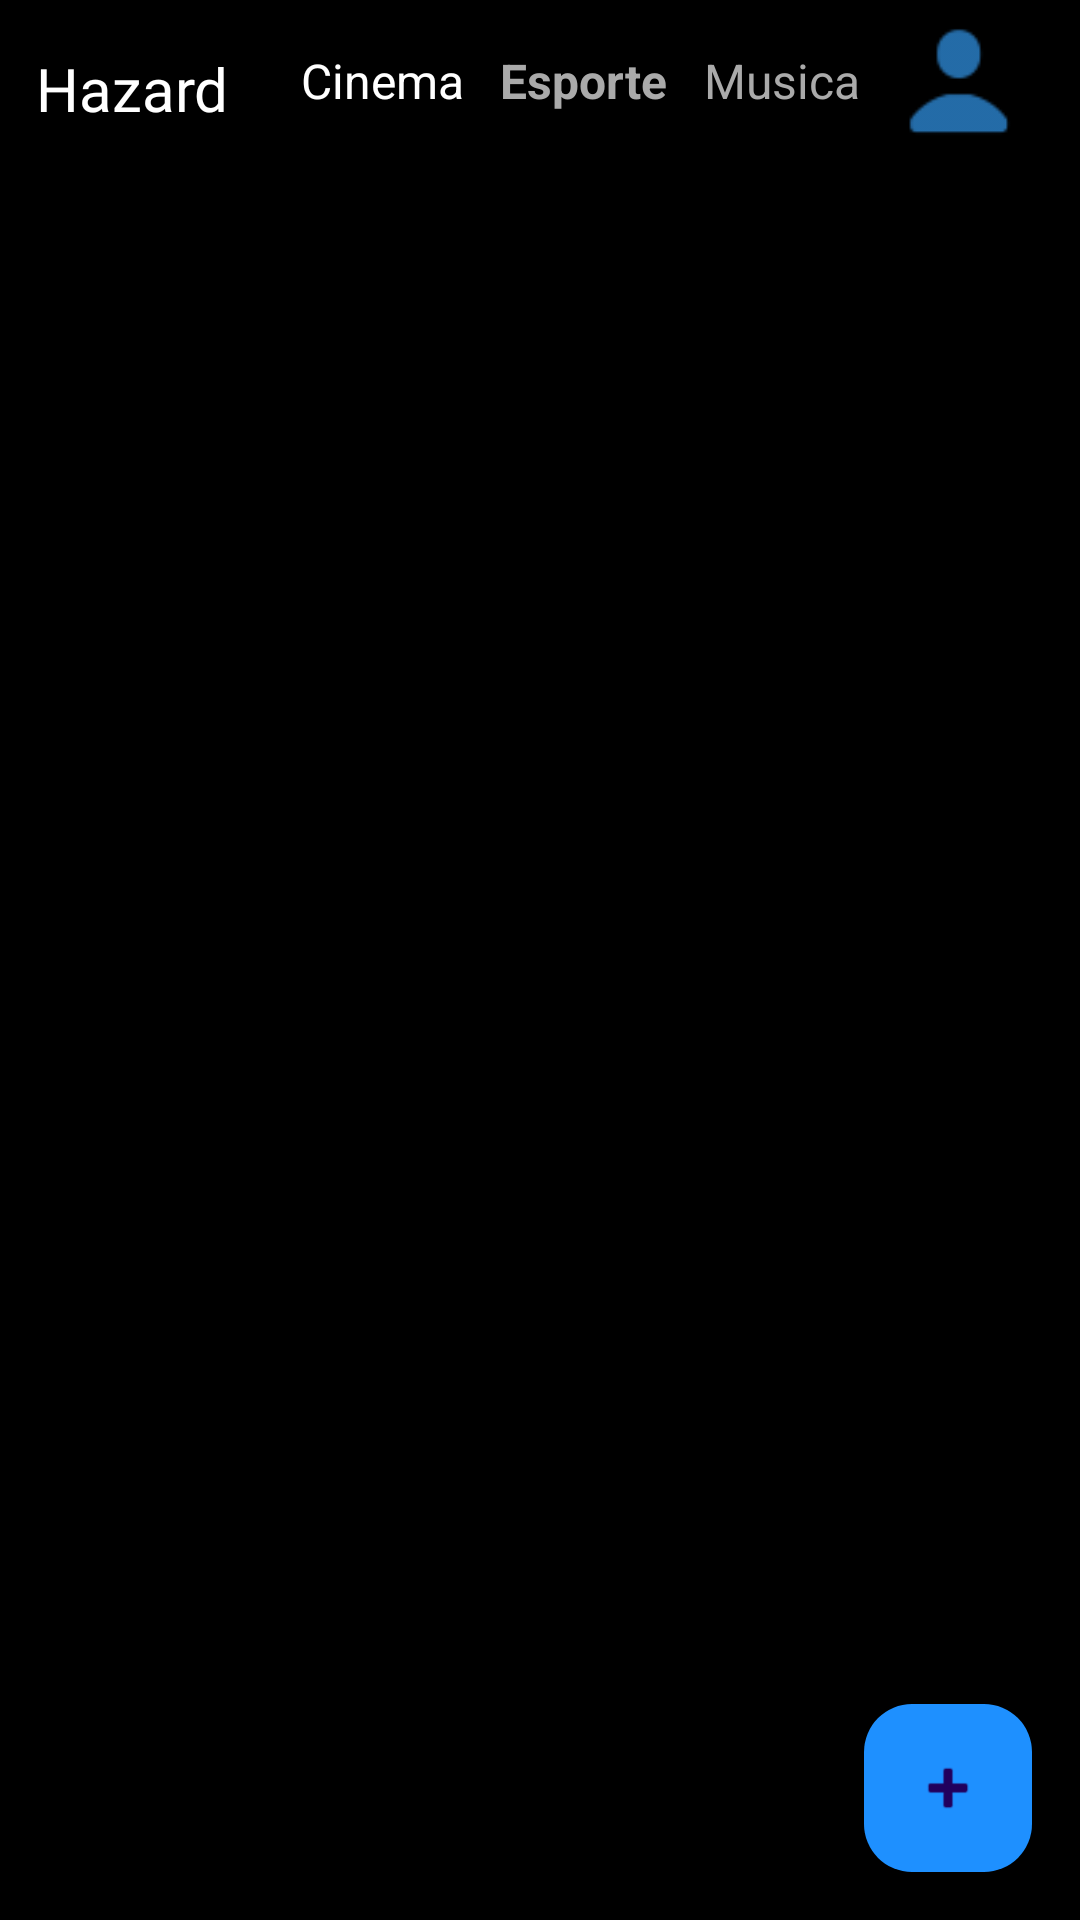

Icons on this 1080 x 1920 Android screen, each with the point to tap as (x=x, y=y):
add: (x=948, y=1788)
Foto do usuário: (x=958, y=81)
